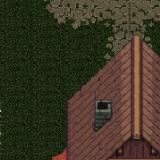Obstacle: (30, 101, 160, 160)
